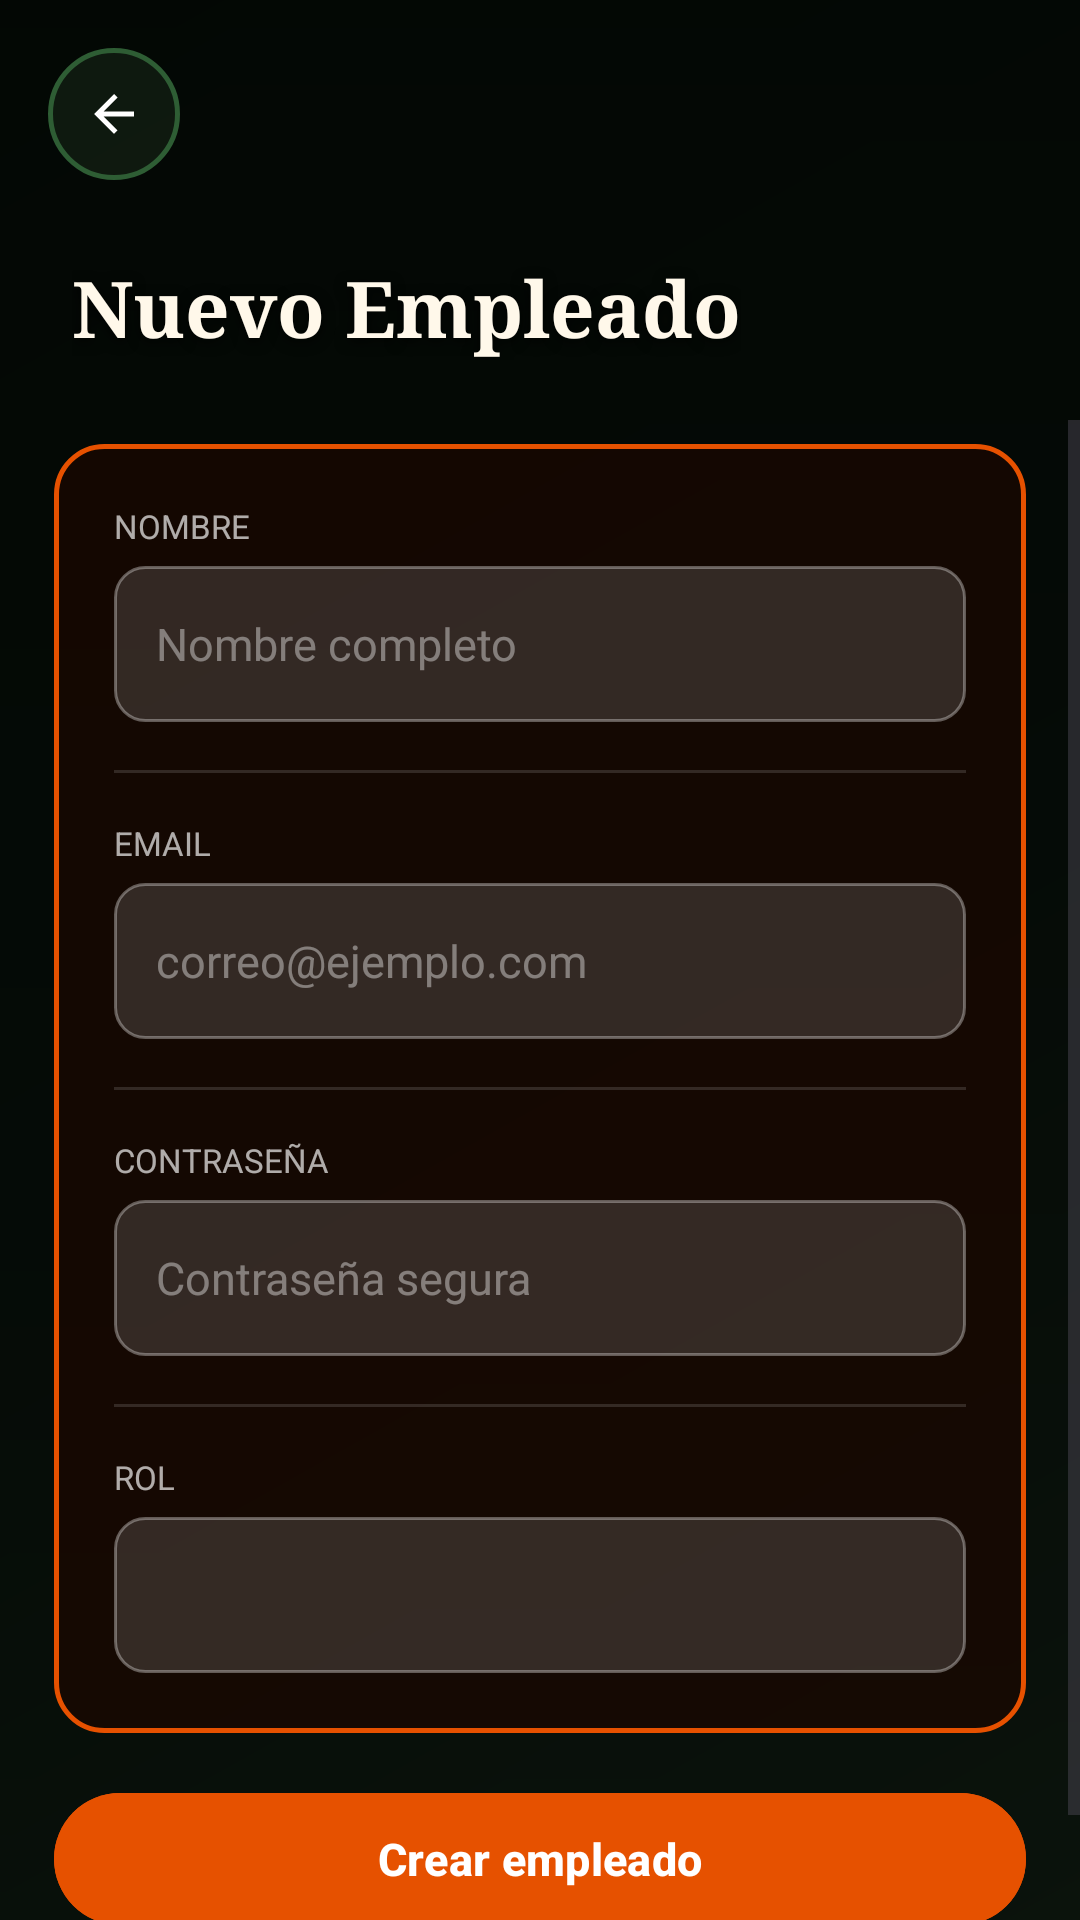

Locate icon controls on the screen. Image size 1080px×1920px, boxes as [x1,y1,x2,y2].
arrow back: [48,48,180,180]
